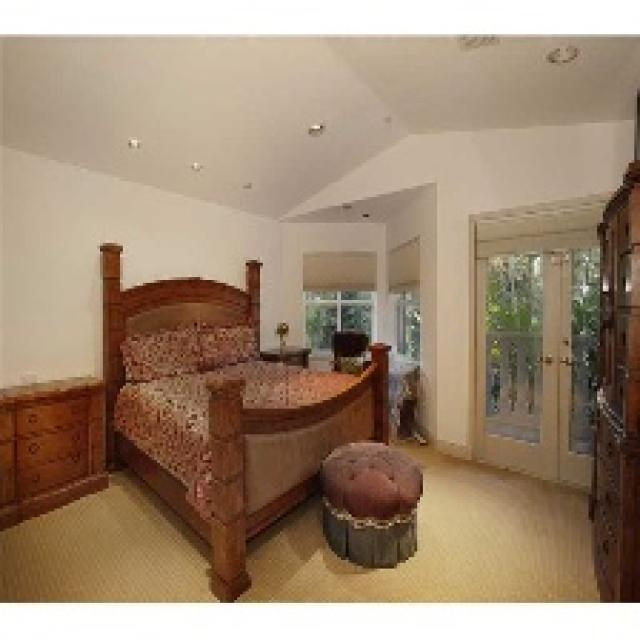Bed: (97, 240, 392, 600)
